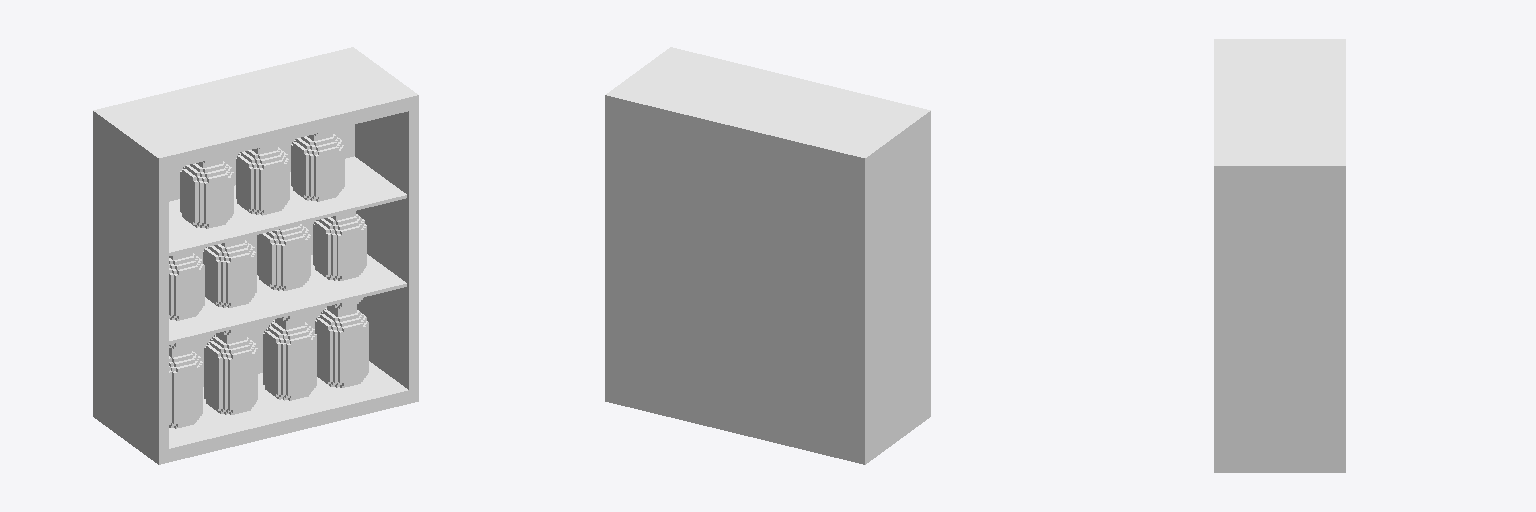
Rendered from CabinetAllPotion.obj.
3 renders of one model, left to right at view 1: azimuth 30°, elevation 25°; view 2: azimuth 150°, elevation 25°; view 3: azimuth 270°, elevation 25°, orthographic.
Parts seen in each view (by area): view 1: object 1; view 2: object 1; view 3: object 1.
Part boxes in pixels (x1,y1,x2,y2): object 1: (93, 47, 418, 464); object 1: (605, 47, 930, 464); object 1: (1214, 39, 1345, 472).
Size of the model in its own units: 8 by 9 by 3.5.